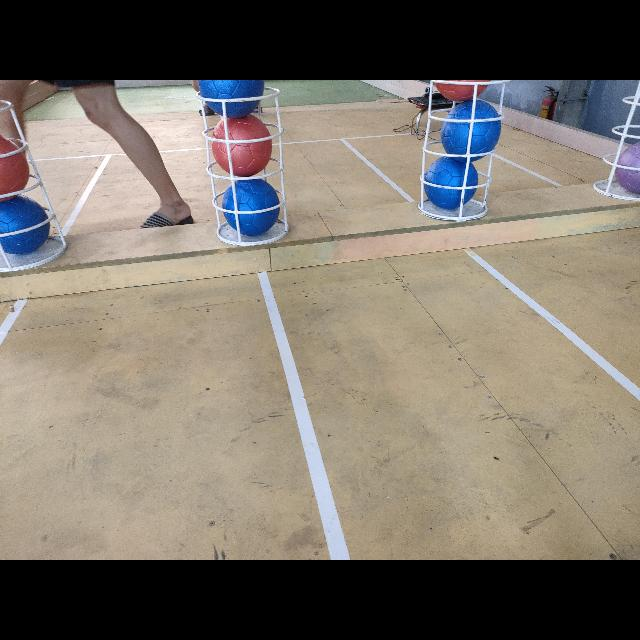B: (441, 102, 502, 160), (223, 179, 279, 235), (424, 156, 478, 210), (0, 198, 50, 255), (197, 80, 266, 116)
R: (210, 116, 274, 178), (1, 134, 30, 200), (433, 80, 491, 100)
